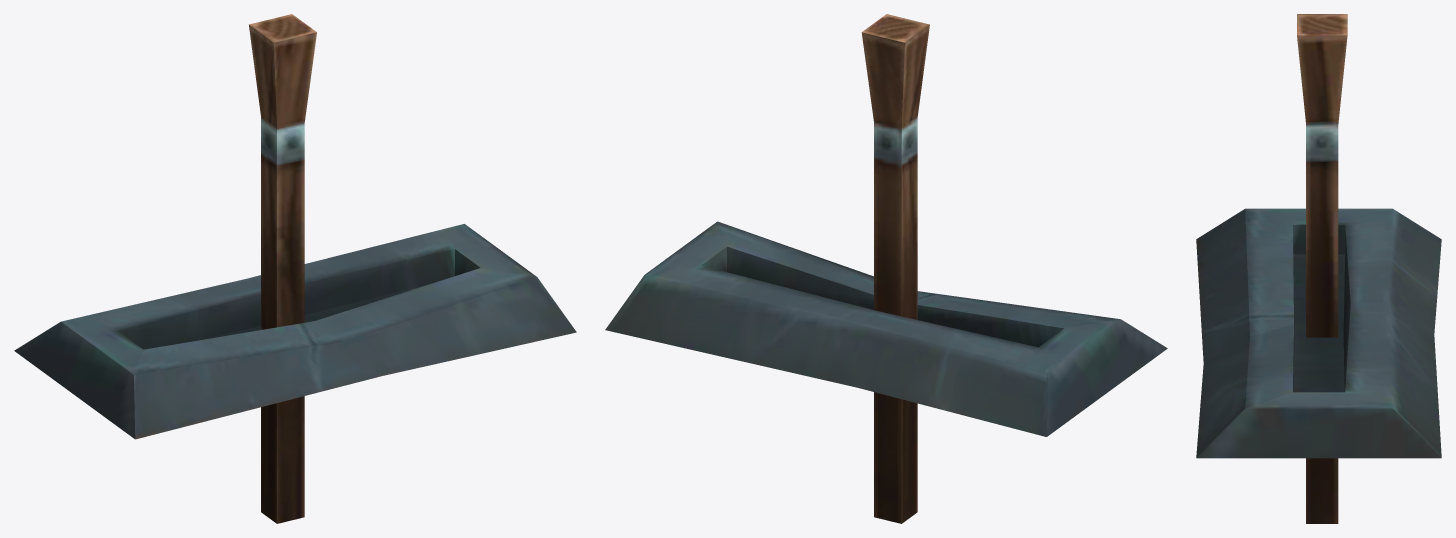
Rendered from Lever.fbx.
The picture shows the model from 3 angles, left to right: view 1: azimuth 30°, elevation 25°; view 2: azimuth 150°, elevation 25°; view 3: azimuth 270°, elevation 25°; orthographic projection.
Visible parts, largest first — view 1: Lever; view 2: Lever; view 3: Lever.
Boxes of the visible parts, x1,y1,x2,y2 form: Lever: (14,14,576,523); Lever: (605,14,1167,523); Lever: (1196,14,1441,523).
Size of the model in its own units: 3.14 by 3.3 by 1.49.
